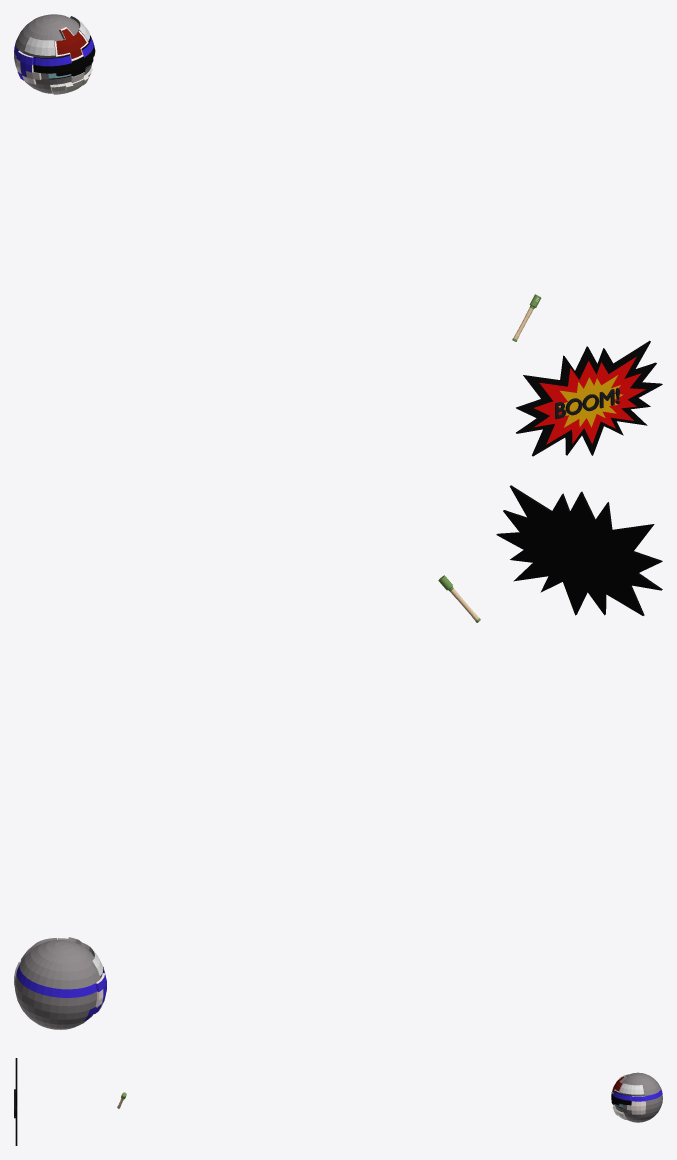
Rendered from MONSTER-04-blue.fbx.
3 renders of one model, top to bottom at view 1: azimuth 30°, elevation 25°; view 2: azimuth 150°, elevation 25°; view 3: azimuth 270°, elevation 25°, orthographic. The views are drawn at different scales.
Parts seen in each view (by area): view 1: Cube, Sphere; view 2: Cube, Sphere; view 3: Sphere, Cube.
Boxes of the visible parts, box(x1,y1,x2,y2) form: Cube: box(516, 340, 662, 456); Sphere: box(14, 14, 95, 94); Cube: box(496, 485, 662, 615); Sphere: box(14, 937, 106, 1029); Sphere: box(611, 1072, 662, 1122); Cube: box(14, 1058, 17, 1145).
Size of the model in its own units: 752 by 537 by 4599.
